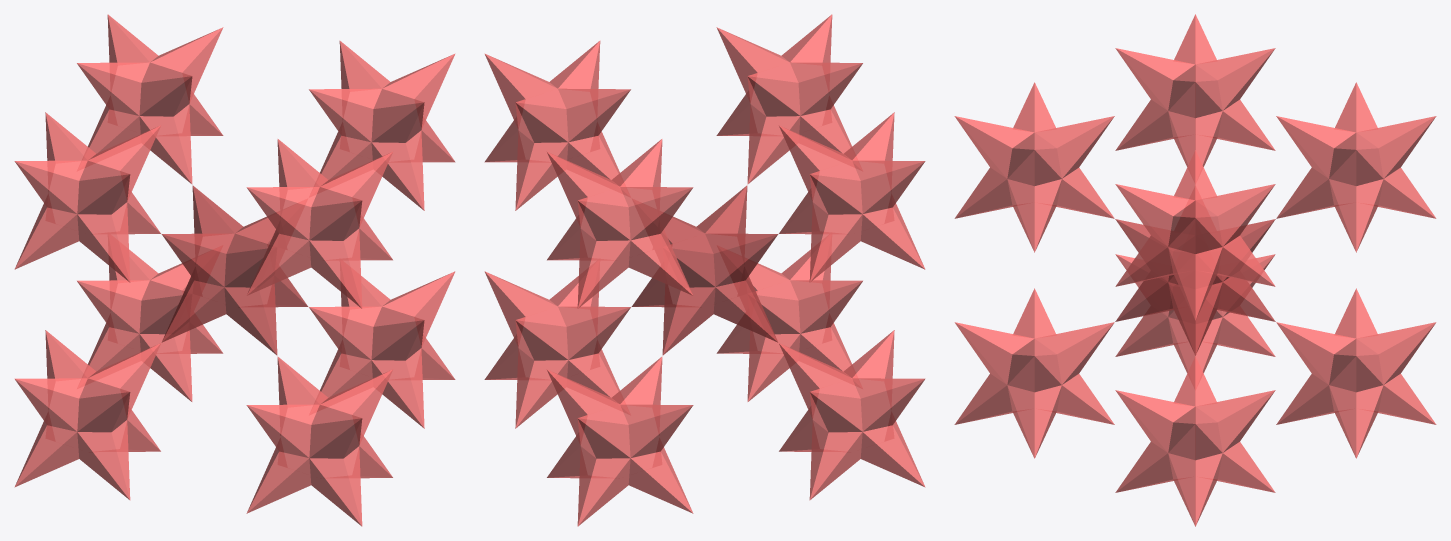
File: fractalgreatdisdyakisdodecahedron1.glb
The picture shows the model from 3 angles, left to right: view 1: azimuth 30°, elevation 25°; view 2: azimuth 150°, elevation 25°; view 3: azimuth 270°, elevation 25°; orthographic projection. The views are drawn at different scales.
Size of the model in its own units: 10.37 by 7.34 by 10.37.
